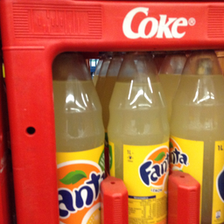soda: (107, 53, 170, 224), (169, 51, 223, 223), (52, 51, 104, 224)
